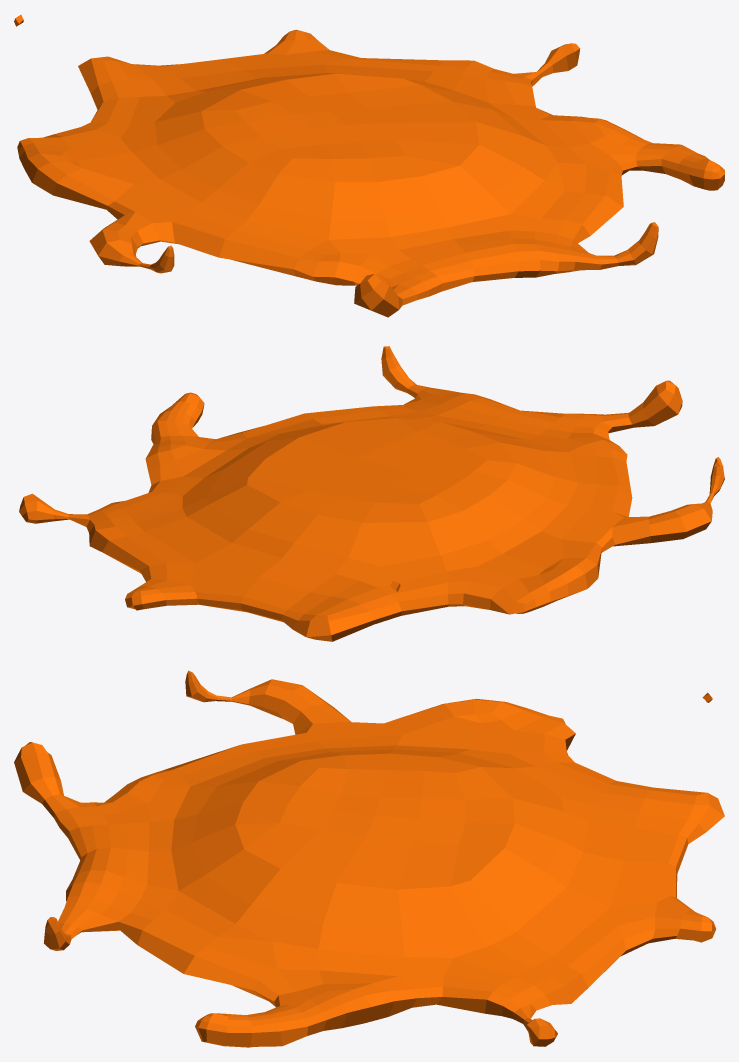
The model's file is splash_jaune.FBX.
The picture shows the model from 3 angles, top to bottom: view 1: azimuth 30°, elevation 25°; view 2: azimuth 150°, elevation 25°; view 3: azimuth 270°, elevation 25°; orthographic projection. The views are drawn at different scales.
Parts seen in each view (by area): view 1: Fluid Domain.002; view 2: Fluid Domain.002; view 3: Fluid Domain.002.
Part boxes in pixels (box(x1,y1,x2,y2)): Fluid Domain.002: box(14, 14, 724, 317); Fluid Domain.002: box(19, 346, 724, 641); Fluid Domain.002: box(14, 670, 724, 1047).
Size of the model in its own units: 126 by 121 by 22.35.
